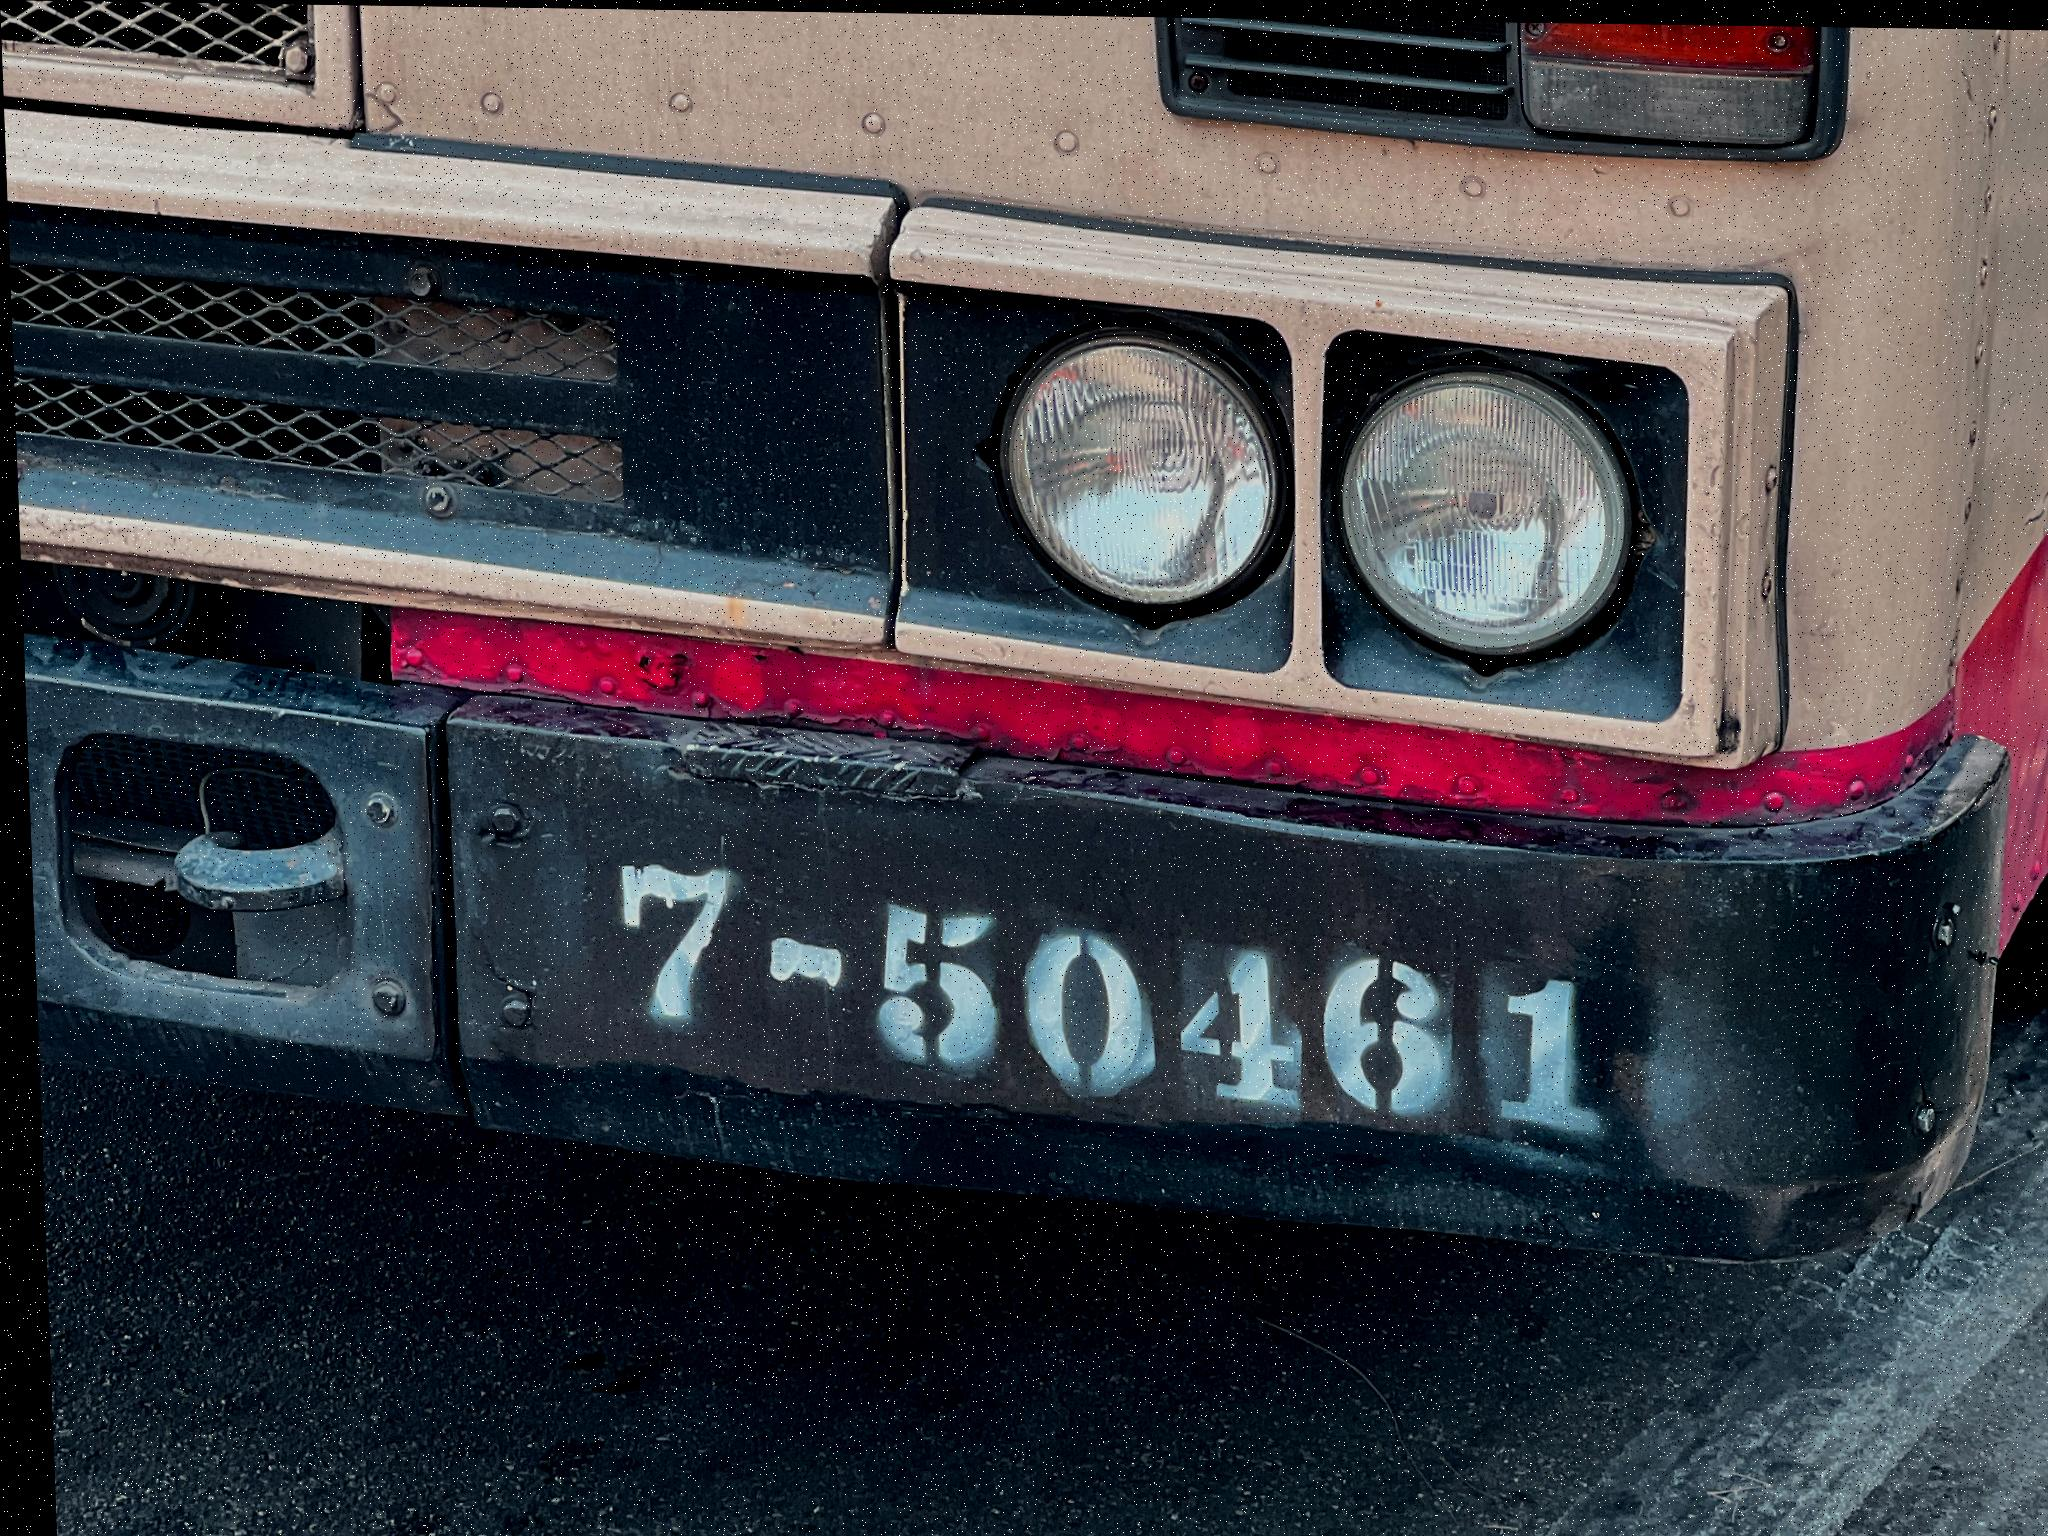BMTA-bus: (0, 0, 2048, 1278)
Bus Side Number: (555, 816, 1664, 1225)
